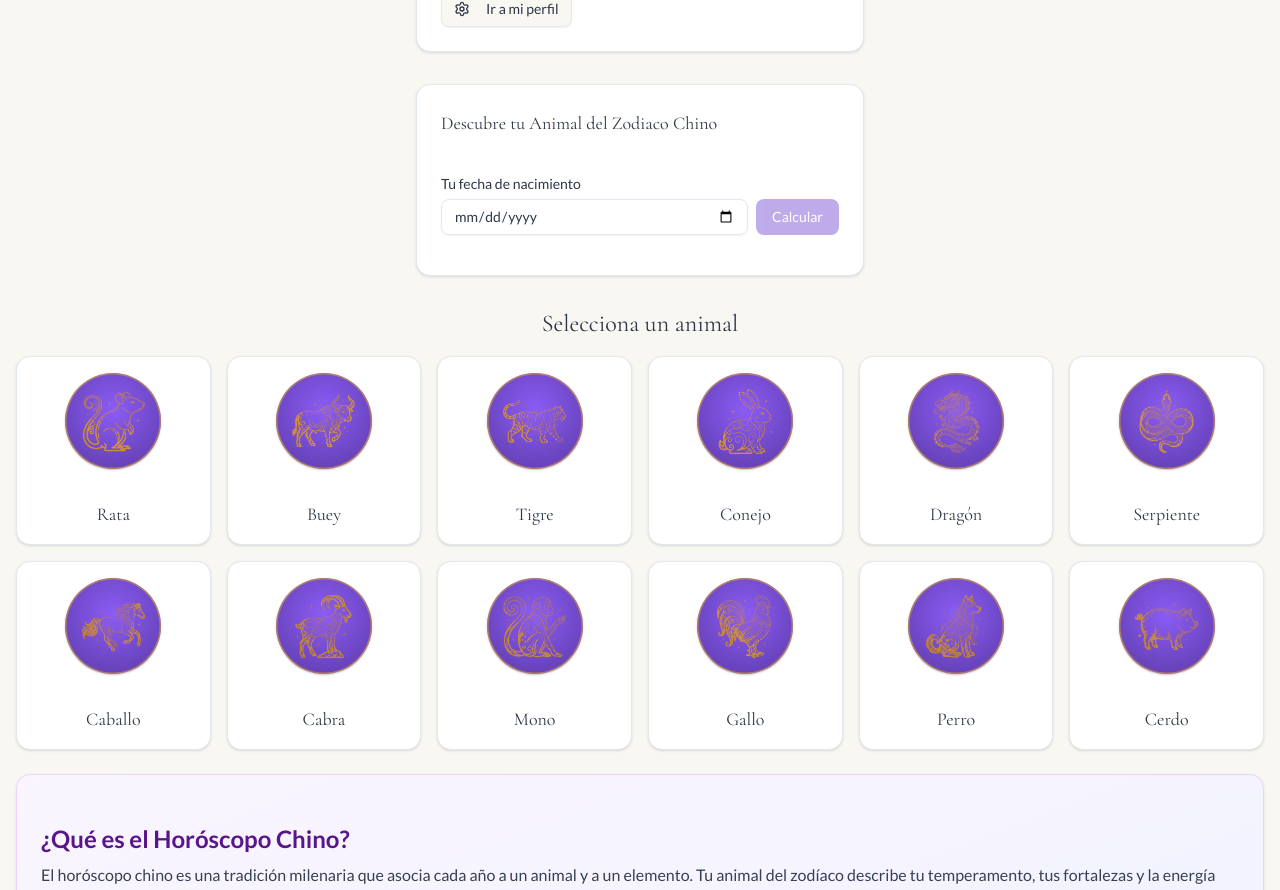
HoroscopoChinoPage › should open element selector modal when clicking on an animal card
(page scrolled)
Click the button with test id "chinese-animal-dragon" at (956, 450), box [859, 356, 1053, 545]
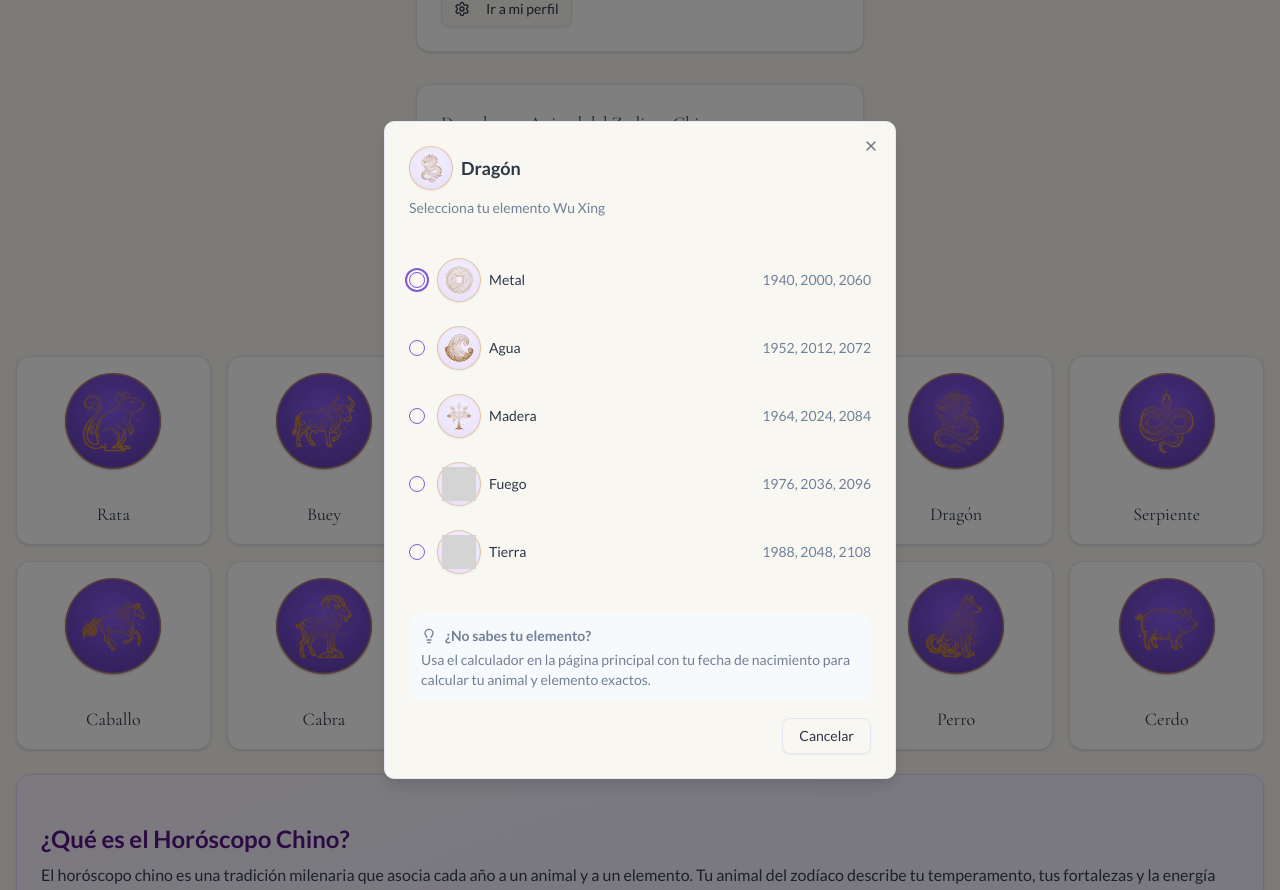
Now the dialog with test id "element-selector-modal" is shown, box [384, 121, 896, 779]
